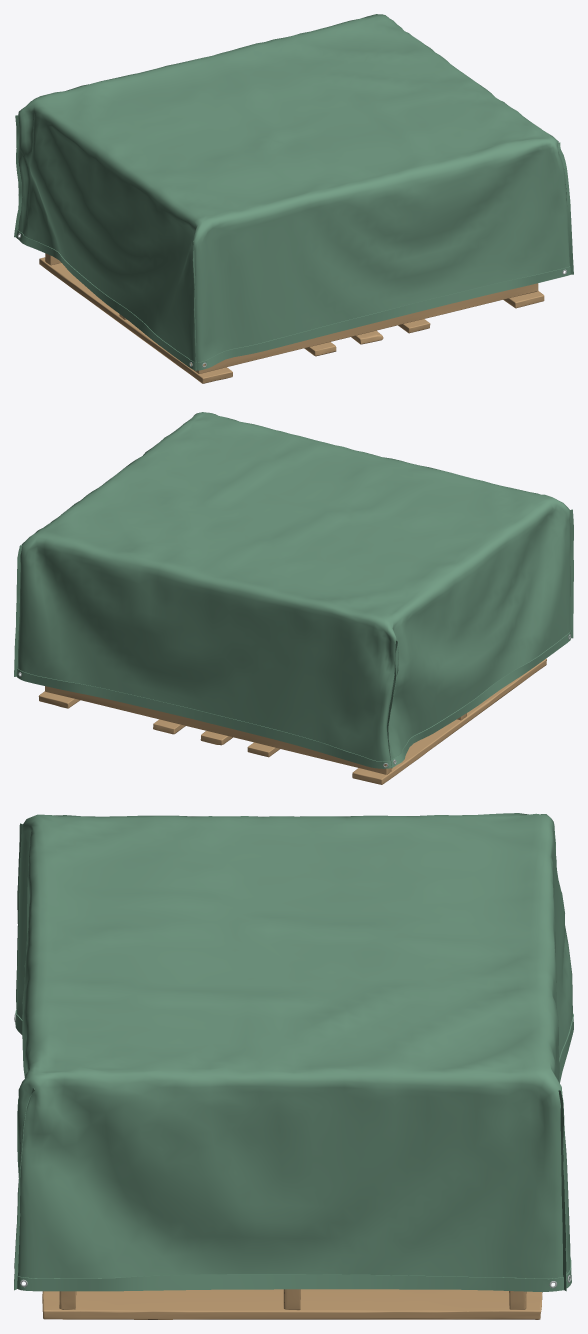
The model's file is pallet_assembly_b01.glb.
3 views of the same model, one above another, from view 1: azimuth 30°, elevation 25°; view 2: azimuth 150°, elevation 25°; view 3: azimuth 270°, elevation 25° (orthographic). The views are drawn at different scales.
Size of the model in its own units: 1.33 by 0.559 by 1.11.
